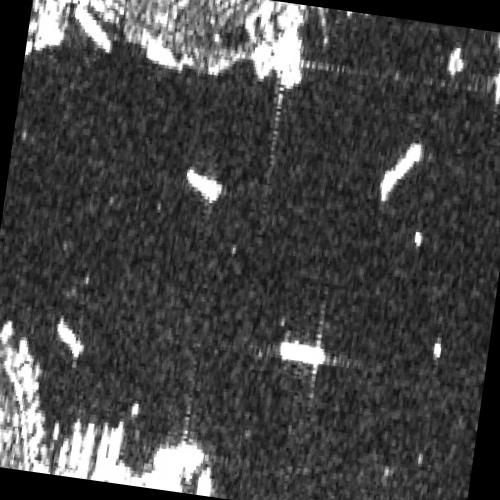ship: (380, 141, 423, 200), (74, 1, 112, 54), (278, 341, 328, 367), (186, 168, 222, 202), (57, 317, 83, 360), (92, 421, 111, 479), (77, 421, 96, 478), (106, 421, 123, 479), (68, 419, 82, 474), (56, 435, 71, 474)
